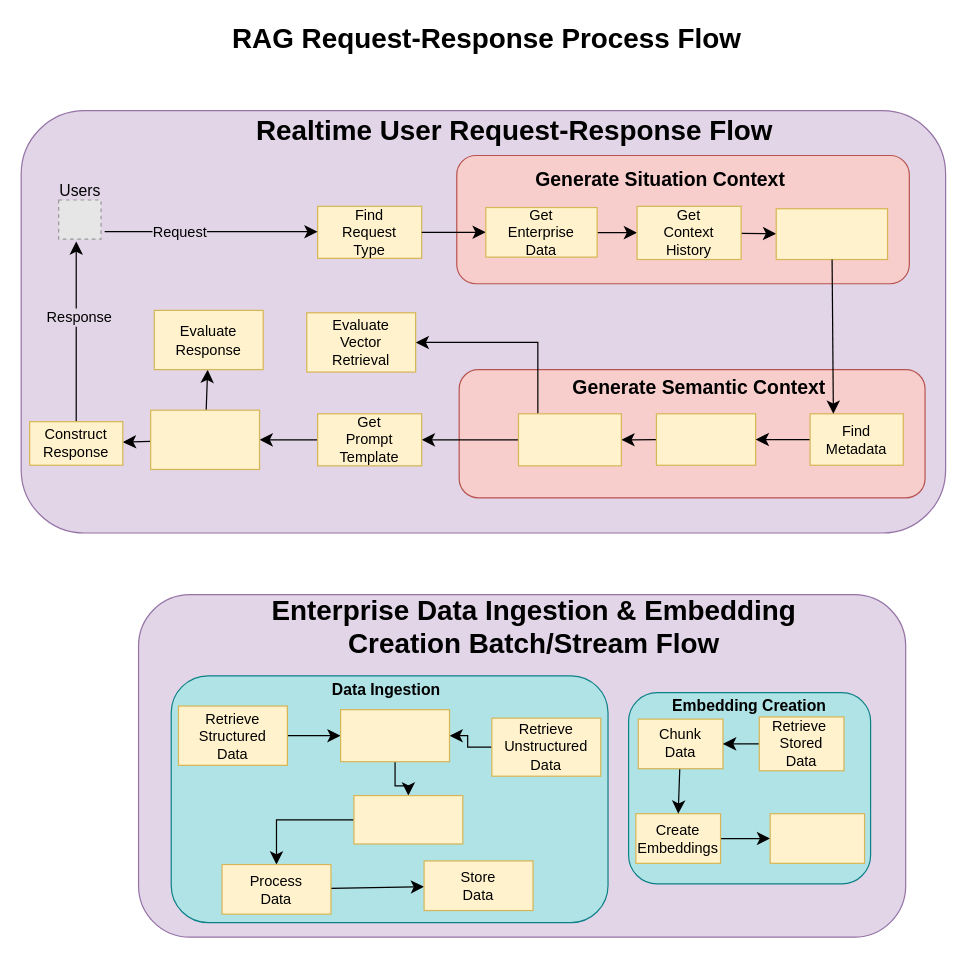
Image size: 967x958. Some labels were removed from this diagram. Grey dashed boxes stand in for pictures. Each missing label, with the centre of its shape:
"Construct Prompt & Send to LLM" belongs at point 204,439.
"Create Embedding" belongs at point 705,439.
"Ingest Data" belongs at point 394,735.
"Perform Vector Search" belongs at point 569,439.
"Retrieve Prompt" belongs at point 831,234.
"Stage Data" belongs at point 408,819.
"Store Embeddings" belongs at point 817,838.
